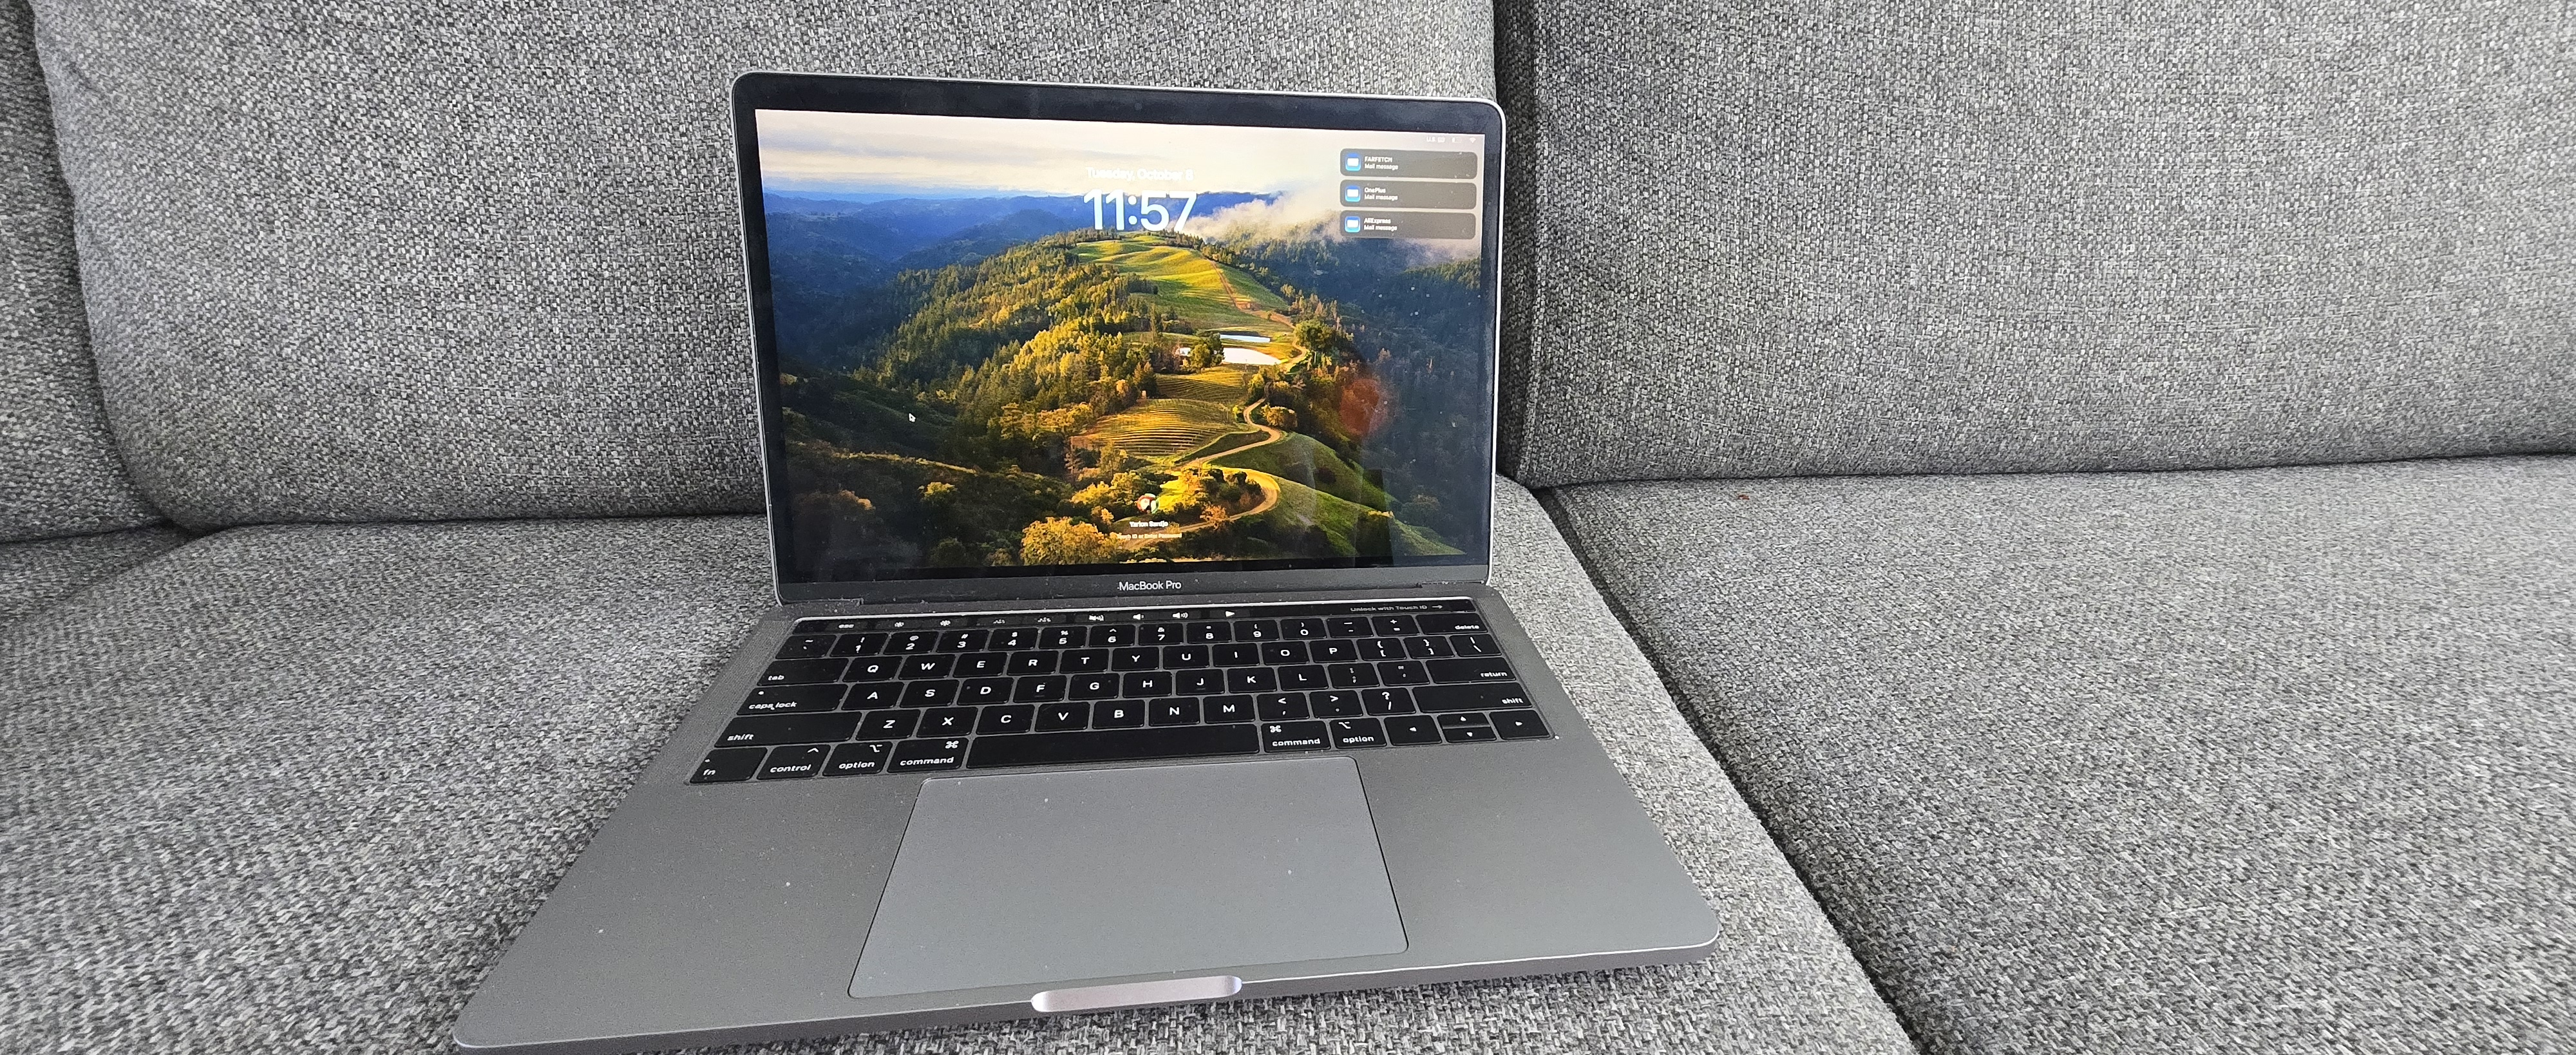laptop: (447, 48, 1825, 1055)
